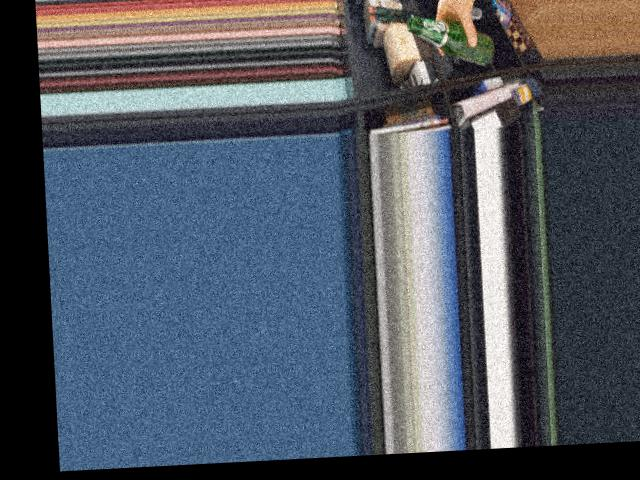beer: (407, 11, 495, 70)
